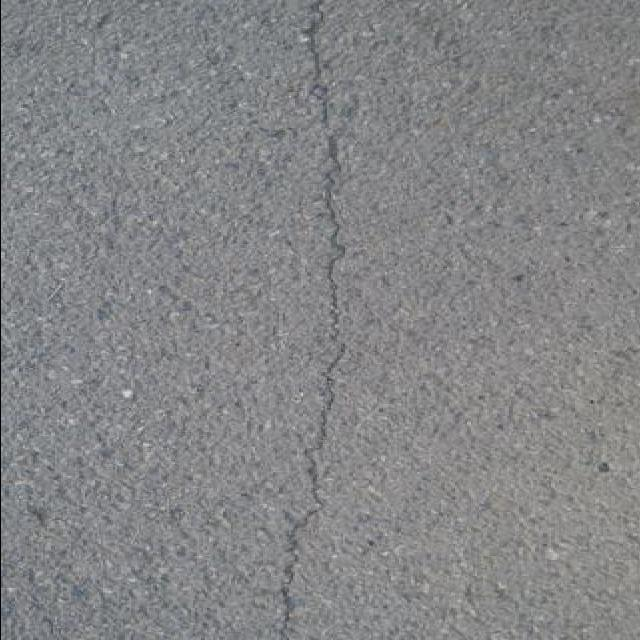crack: (273, 0, 348, 639), (307, 24, 349, 297), (298, 2, 331, 122), (227, 81, 295, 133), (317, 88, 353, 132)
dampens: (275, 535, 308, 634)
